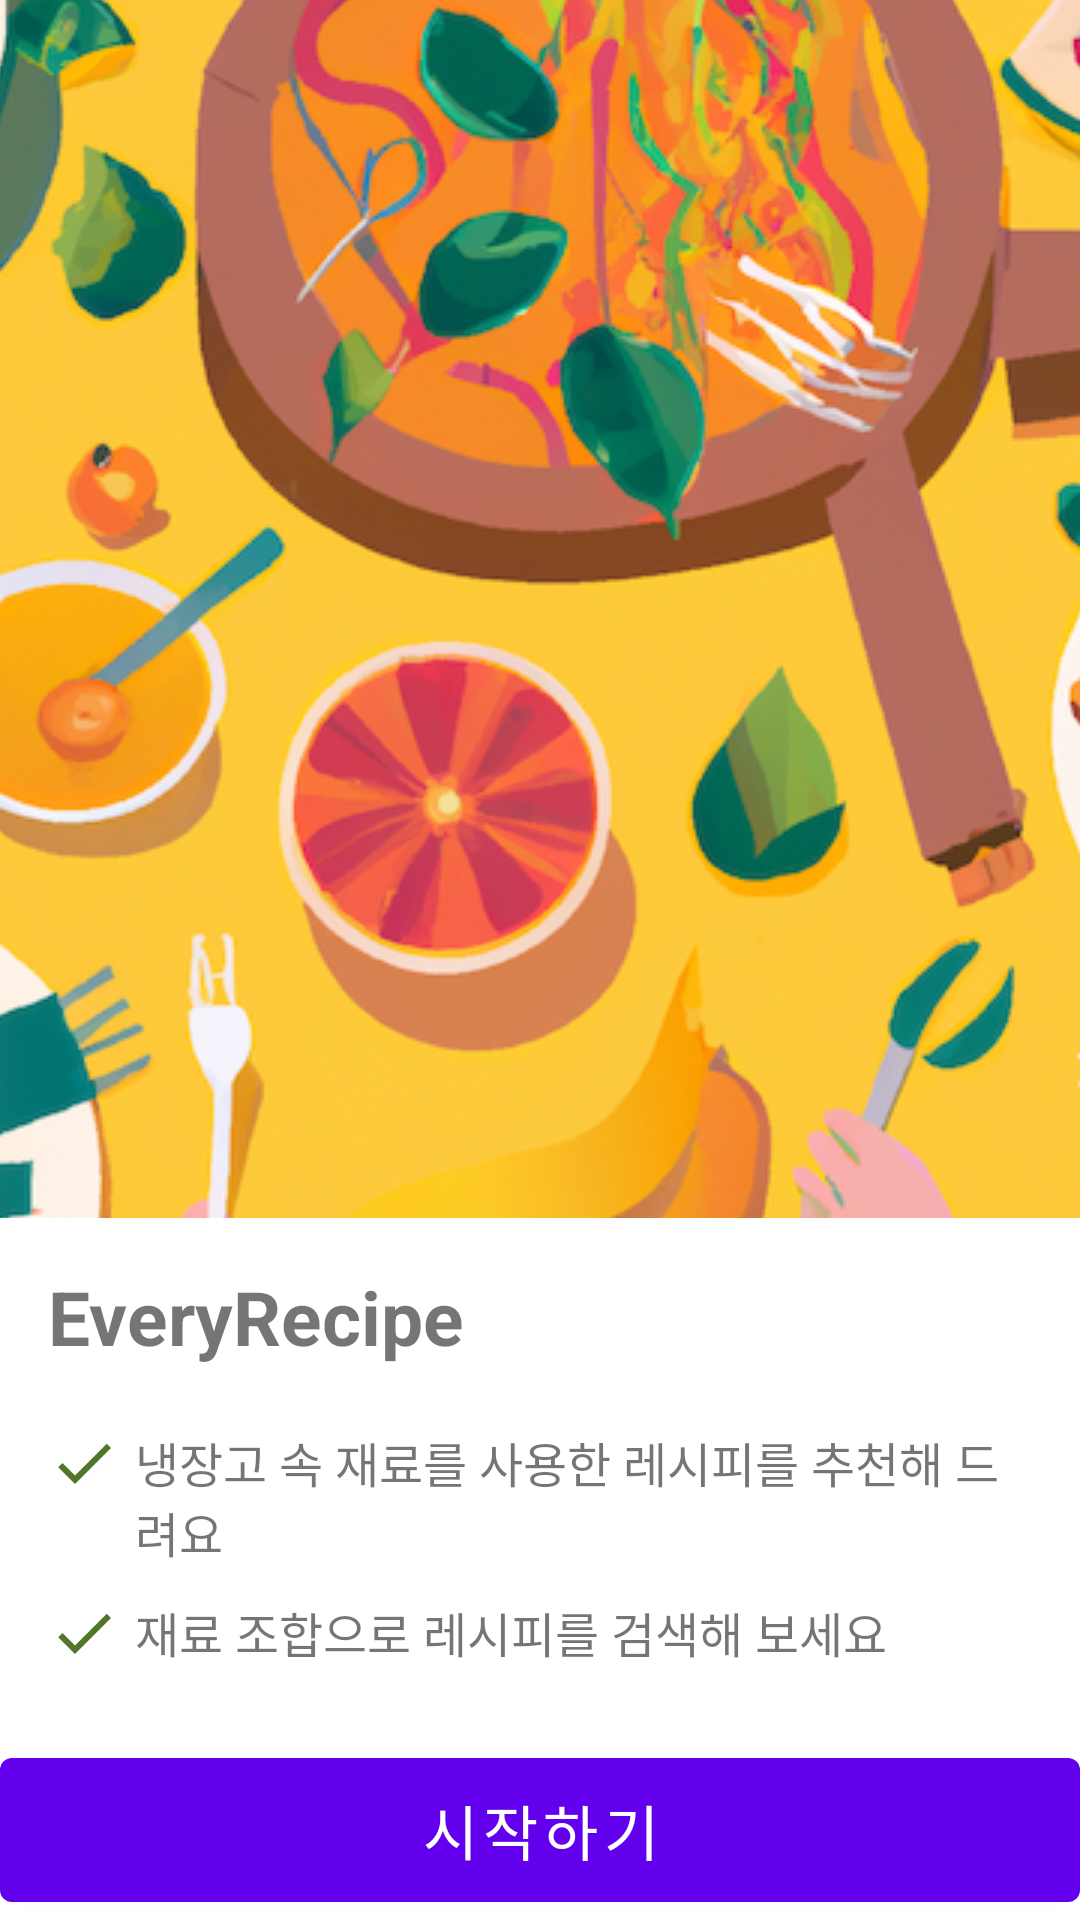

Named icons in this screenshot (1080px x 1920px) and their centers, point (x, y):
check: point (84, 1464), point (84, 1634)
